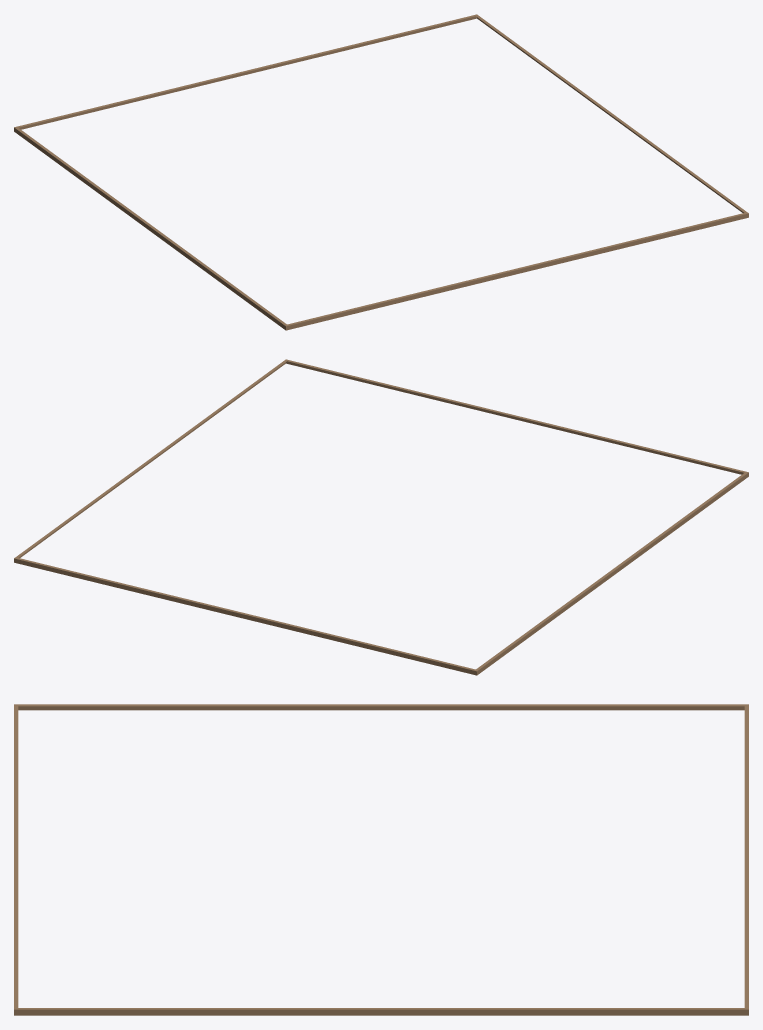
File: chessborder.glb
The picture shows the model from 3 angles, top to bottom: view 1: azimuth 30°, elevation 25°; view 2: azimuth 150°, elevation 25°; view 3: azimuth 270°, elevation 25°; orthographic projection. The views are drawn at different scales.
Visible parts, largest first — view 1: Chess Board; view 2: Chess Board; view 3: Chess Board.
Part boxes in pixels (<box>): Chess Board: <box>14,14,748,330</box>; Chess Board: <box>14,359,748,675</box>; Chess Board: <box>14,704,748,1015</box>.
Bounding box in the file's own units: 1.68 × 0.0146 × 1.7.
